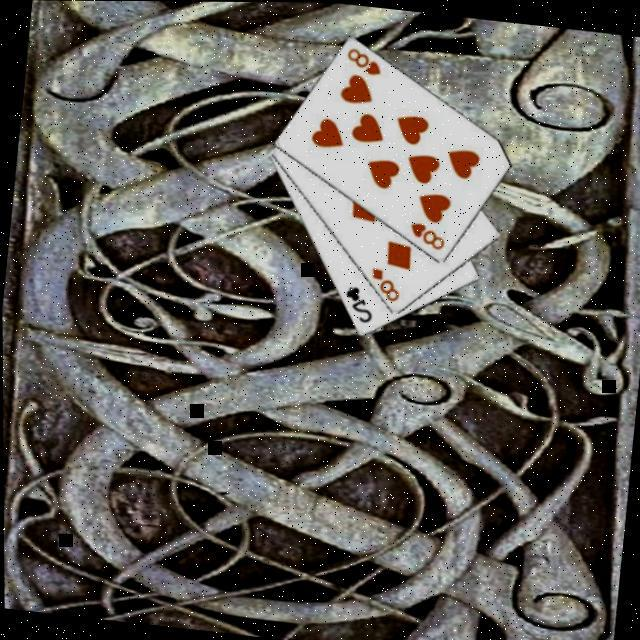2C: (338, 284, 376, 327)
8D: (364, 265, 402, 306)
8H: (403, 220, 447, 254), (341, 46, 385, 80)
